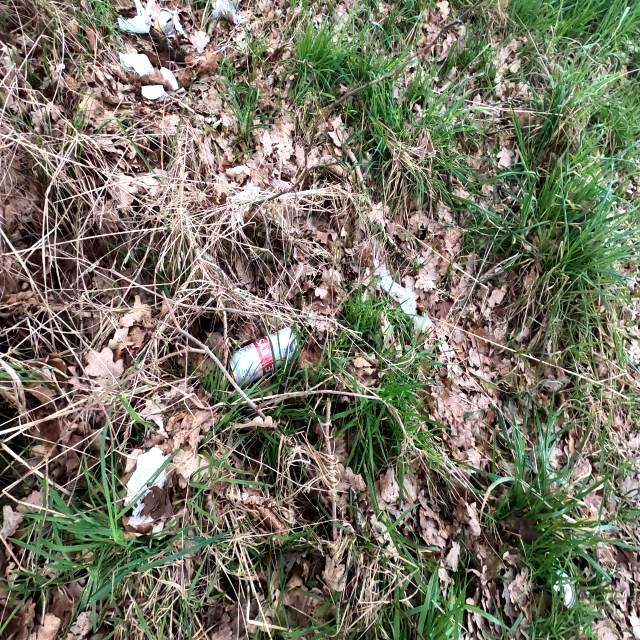Coffee Cup: (140, 66, 178, 100)
Metal: (228, 319, 300, 387), (546, 565, 576, 609)
Paper: (122, 443, 176, 527), (374, 259, 418, 323), (228, 178, 260, 226), (210, 0, 248, 26), (118, 51, 154, 77)
